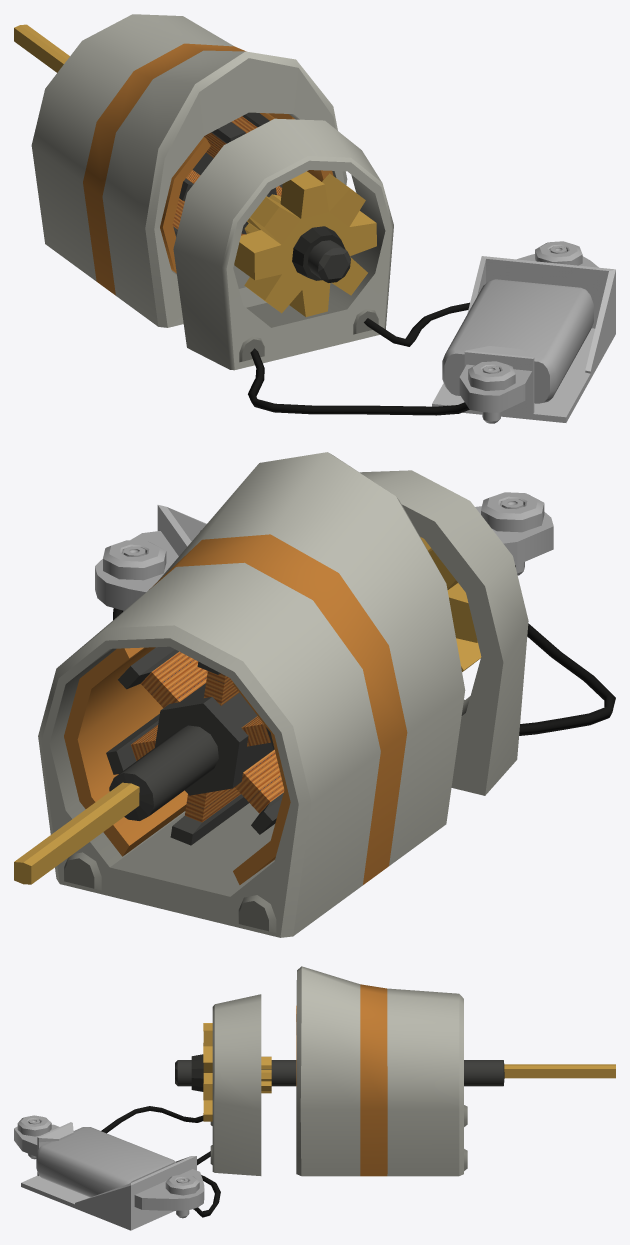
Rendered from Motor01.fbx.
3 renders of one model, top to bottom at view 1: azimuth 30°, elevation 25°; view 2: azimuth 150°, elevation 25°; view 3: azimuth 270°, elevation 25°, orthographic. The views are drawn at different scales.
Parts seen in each view (by area): view 1: Motor01, Motor01_Spin, BatteryCase, Battery, Motor01_Wires; view 2: Motor01, Motor01_Spin, BatteryCase, Motor01_Wires; view 3: Motor01, BatteryCase, Battery, Motor01_Spin, Motor01_Wires.
Boxes of the visible parts, x1,y1,x2,y2 form: Motor01: [31, 14, 393, 370]; Motor01_Spin: [14, 24, 376, 316]; BatteryCase: [432, 241, 615, 423]; Battery: [442, 279, 593, 403]; Motor01_Wires: [248, 302, 469, 415]; Motor01: [38, 452, 528, 937]; Motor01_Spin: [14, 537, 481, 884]; BatteryCase: [95, 492, 553, 611]; Motor01_Wires: [113, 565, 615, 735]; Motor01: [210, 966, 467, 1176]; BatteryCase: [14, 1115, 204, 1230]; Battery: [36, 1127, 176, 1197]; Motor01_Spin: [175, 1023, 615, 1121]; Motor01_Wires: [101, 1106, 220, 1217].
Size of the model in its own units: 1.85 by 1.26 by 3.88.
